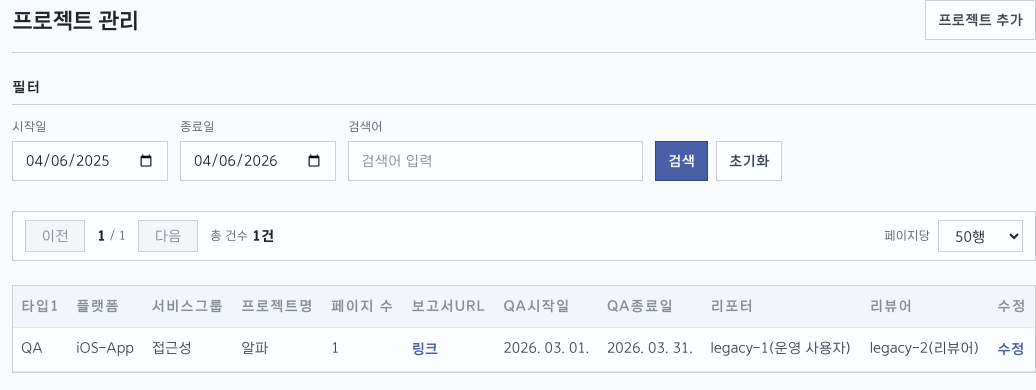
Test: Projects routes › searches across project metadata and member names
Expected: the text "알파" is shown, x1=233 y1=328 x2=323 y2=371
In the field labelled "검색어": (496, 161) x1=348 y1=141 x2=643 y2=181, type "리뷰어"
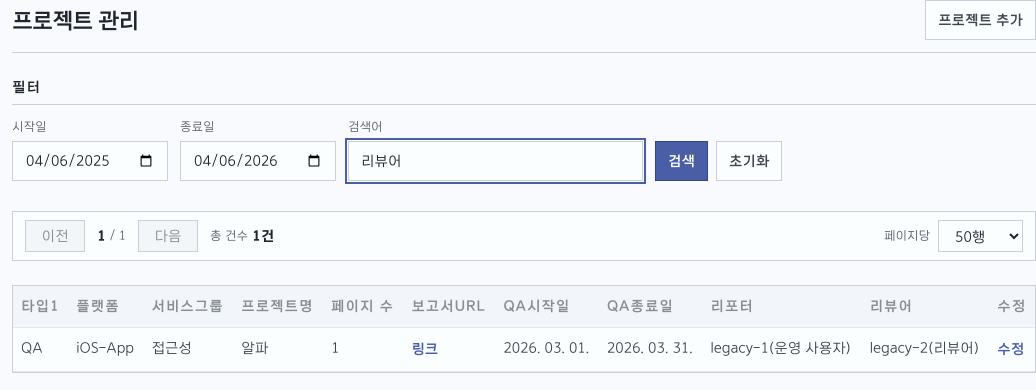
Click the button "검색": (681, 161) x1=655 y1=141 x2=708 y2=181
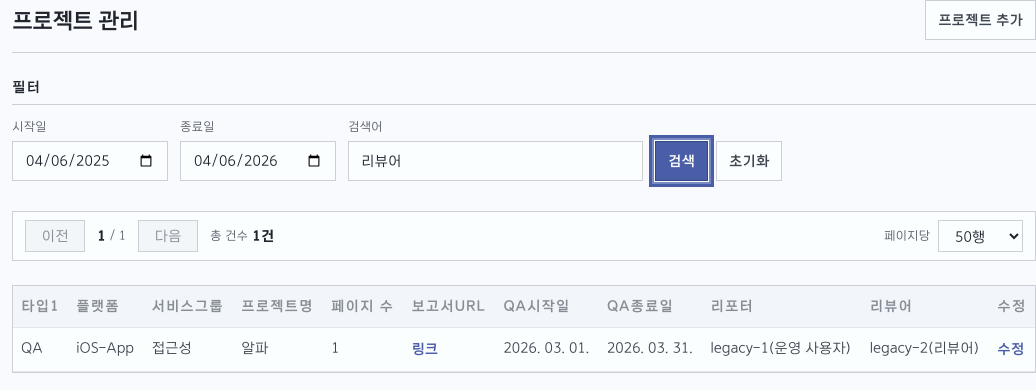
Expected: the text "알파" is shown, x1=233 y1=328 x2=323 y2=371
Replace the text in the field labelled "검색어" with "legacy-2": (496, 161) x1=348 y1=141 x2=643 y2=181
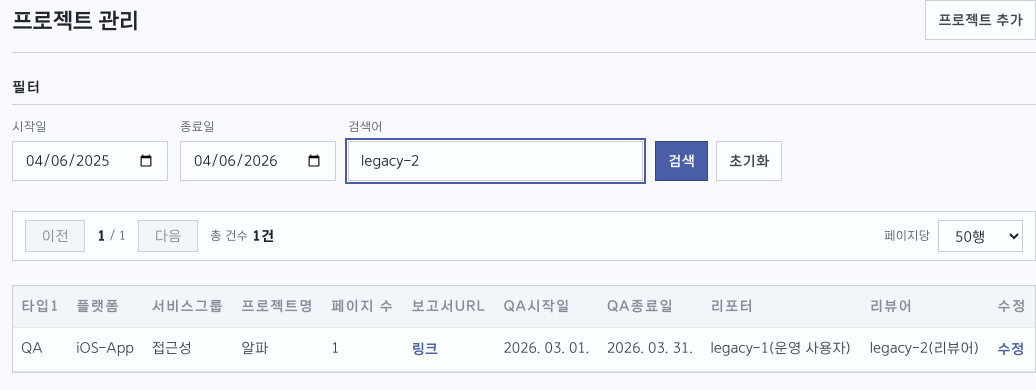
Click the button "검색": (681, 161) x1=655 y1=141 x2=708 y2=181
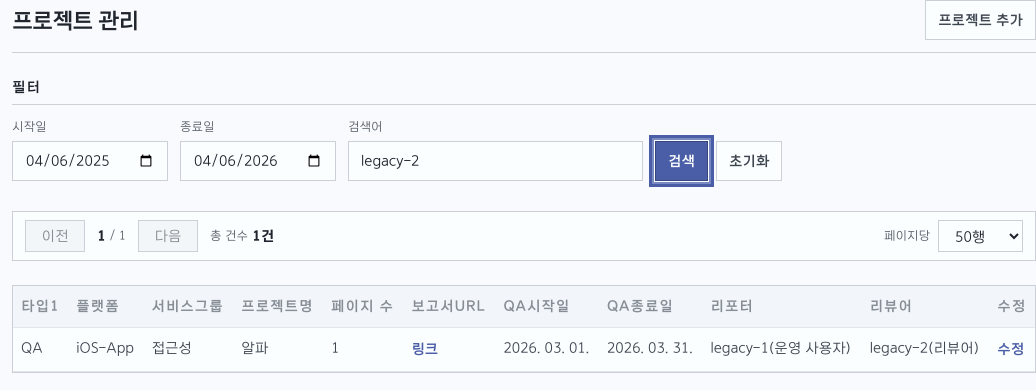
Expected: the text "알파" is shown, x1=233 y1=328 x2=323 y2=371
Replace the text in the field labelled "검색어" with "없는검색어": (496, 161) x1=348 y1=141 x2=643 y2=181
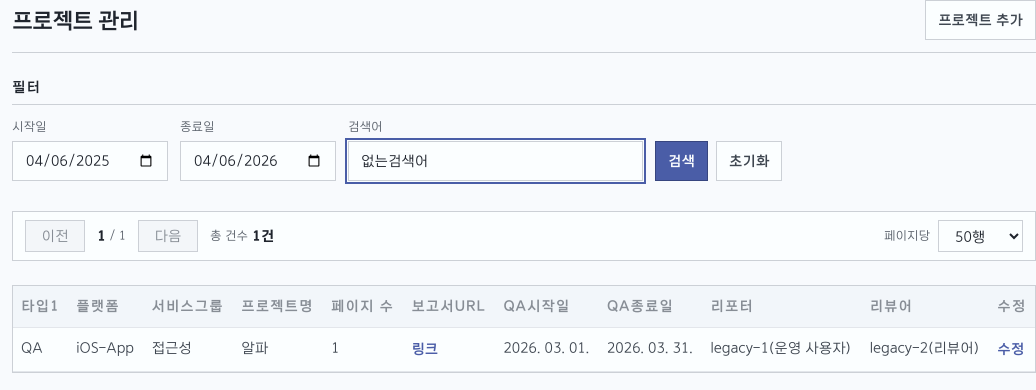
Click the button "검색": (681, 161) x1=655 y1=141 x2=708 y2=181
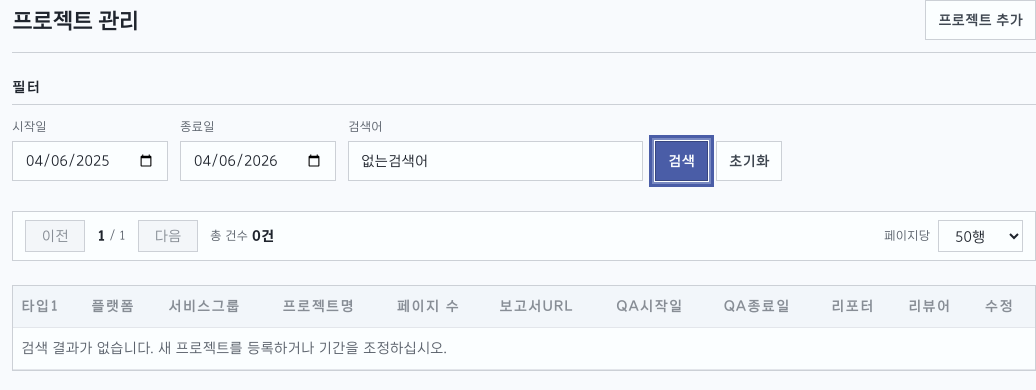
Expected: the text "검색 결과가 없습니다. 새 프로젝트를 등록하거나 기간을 조정하십시오." is shown, x1=13 y1=328 x2=1035 y2=369
